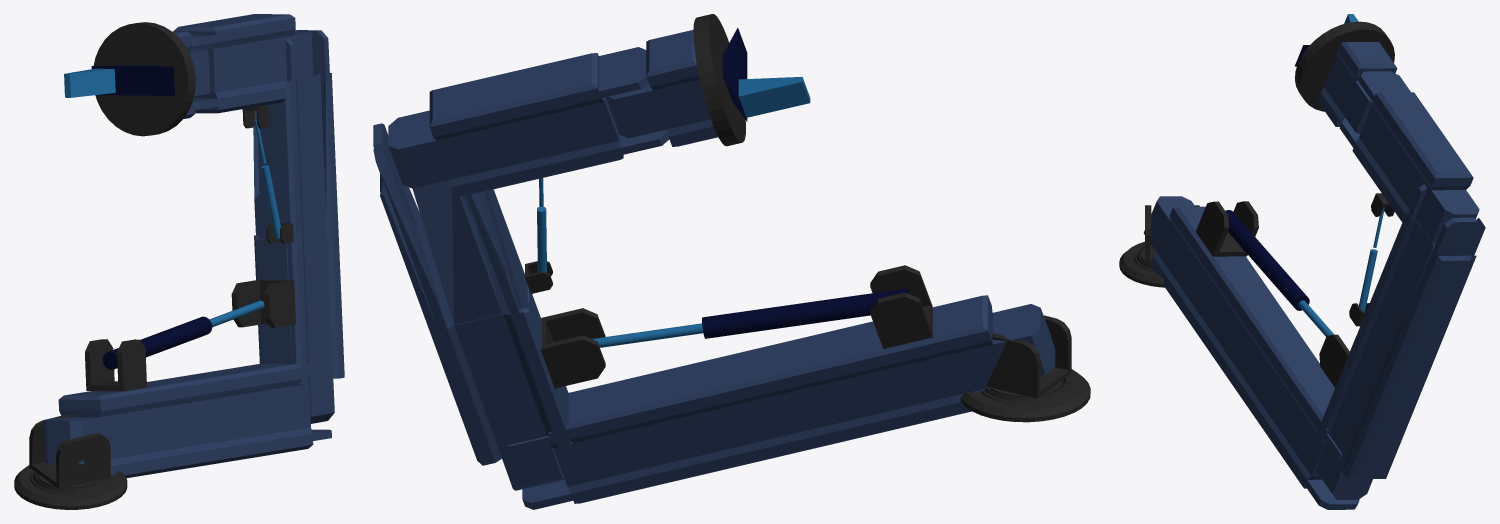
The model's file is Garra-3.0 NO PDO MAS.glb.
The picture shows the model from 3 angles, left to right: view 1: azimuth 30°, elevation 25°; view 2: azimuth 150°, elevation 25°; view 3: azimuth 270°, elevation 25°; orthographic projection. The views are drawn at different scales.
Parts seen in each view (by area): view 1: Plane.001, Plane, Plane.002, Circle, Cylinder, Plane.006, Plane.007, Plane.004, Cylinder.001, Plane.005, Plane.003, Cylinder.003 (+3 smaller); view 2: Plane, Plane.001, Plane.002, Cylinder, Plane.003, Plane.007, Cylinder.001, Plane.006, Circle, Plane.005, Plane.004, Cylinder.002; view 3: Plane.001, Plane, Plane.002, Plane.003, Circle, Plane.006, Cylinder.001, Cylinder, Plane.007, Cylinder.003.
Boxes of the visible parts, x1=… form: Plane.001: x1=253, y1=30, x2=344, y2=423; Plane: x1=43, y1=363, x2=331, y2=479; Plane.002: x1=173, y1=14, x2=313, y2=113; Circle: x1=93, y1=22, x2=195, y2=136; Cylinder: x1=14, y1=414, x2=127, y2=509; Plane.006: x1=85, y1=339, x2=146, y2=391; Plane.007: x1=231, y1=280, x2=295, y2=327; Plane.004: x1=91, y1=65, x2=174, y2=95; Cylinder.001: x1=102, y1=316, x2=212, y2=369; Plane.005: x1=64, y1=68, x2=115, y2=97; Plane.003: x1=173, y1=31, x2=210, y2=118; Cylinder.003: x1=261, y1=165, x2=280, y2=238; Plane: x1=507, y1=295, x2=1055, y2=509; Plane.001: x1=373, y1=123, x2=572, y2=490; Plane.002: x1=388, y1=47, x2=669, y2=197; Cylinder: x1=960, y1=315, x2=1090, y2=422; Plane.003: x1=606, y1=30, x2=717, y2=146; Plane.007: x1=540, y1=308, x2=605, y2=388; Cylinder.001: x1=702, y1=288, x2=908, y2=338; Plane.006: x1=870, y1=265, x2=932, y2=348; Circle: x1=693, y1=14, x2=745, y2=146; Plane.005: x1=738, y1=76, x2=810, y2=117; Plane.004: x1=722, y1=27, x2=747, y2=121; Cylinder.002: x1=592, y1=323, x2=703, y2=347; Plane.001: x1=1315, y1=184, x2=1485, y2=500; Plane: x1=1143, y1=196, x2=1359, y2=509; Plane.002: x1=1339, y1=71, x2=1479, y2=243; Plane.003: x1=1317, y1=42, x2=1397, y2=134; Circle: x1=1295, y1=21, x2=1394, y2=111; Plane.006: x1=1195, y1=201, x2=1258, y2=256; Cylinder.001: x1=1225, y1=210, x2=1309, y2=310; Cylinder: x1=1119, y1=205, x2=1199, y2=287; Plane.007: x1=1319, y1=334, x2=1353, y2=387; Cylinder.003: x1=1359, y1=249, x2=1377, y2=311.
Bounding box in the file's own units: 9.27 × 8.79 × 7.
